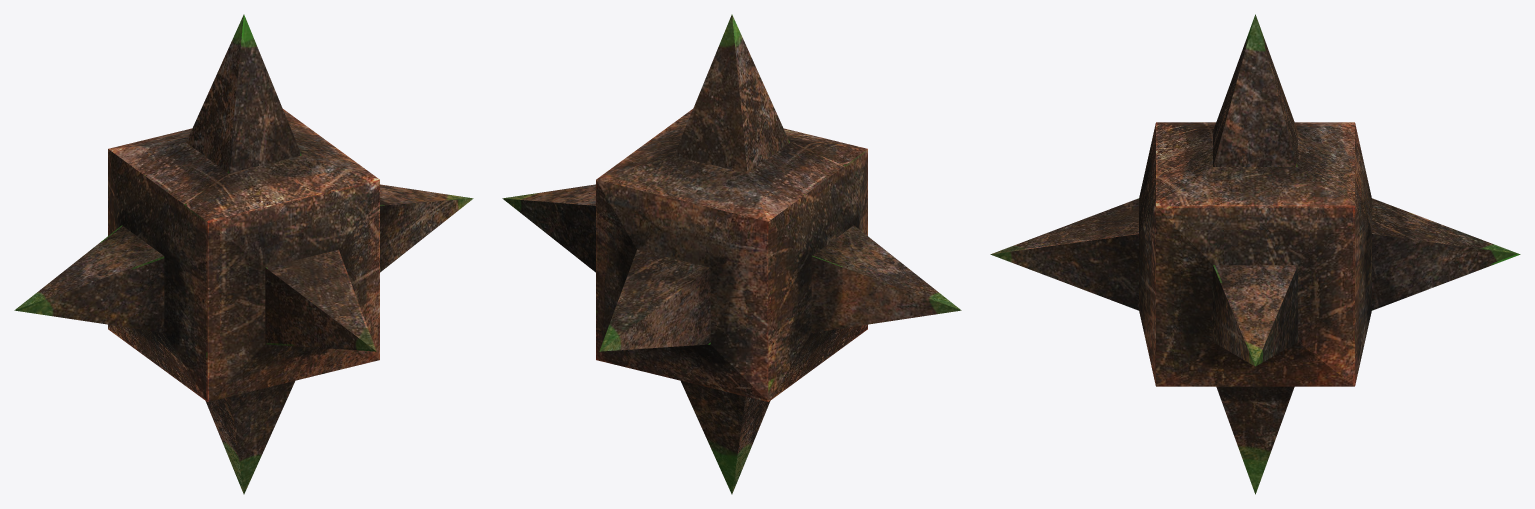
Rendered from Pinchos.fbx.
The picture shows the model from 3 angles, left to right: view 1: azimuth 30°, elevation 25°; view 2: azimuth 150°, elevation 25°; view 3: azimuth 270°, elevation 25°; orthographic projection.
Parts seen in each view (by area): view 1: Cube; view 2: Cube; view 3: Cube.
Part boxes in pixels (<box>): Cube: <box>14,14,473,494</box>; Cube: <box>502,14,961,494</box>; Cube: <box>990,14,1520,494</box>.
Size of the model in its own units: 742 by 742 by 742.
1 material, 1 textured.
